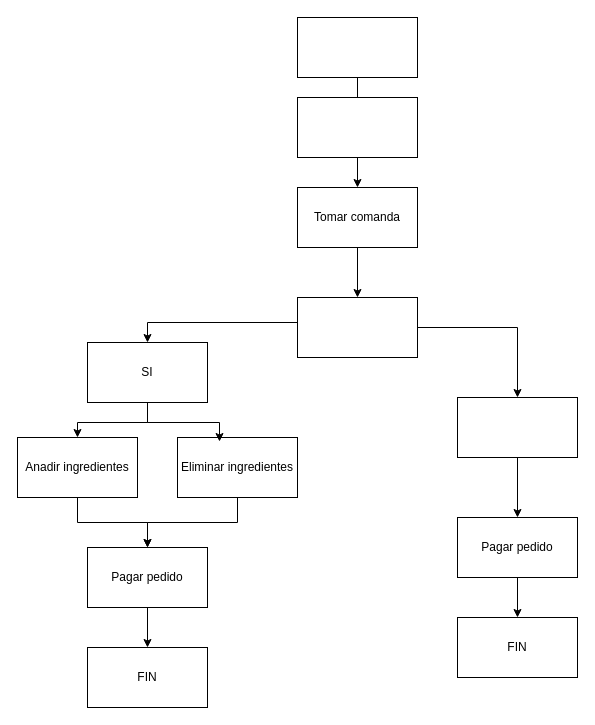
The diagram is 595 pixels wide and 725 high, and some of its shapes have lost their labels. Each missing label, with the box of its shape:
Editar pedido: (296, 296, 418, 358)
INICIO: (296, 16, 418, 78)
Mostrar menu: (296, 96, 418, 158)
NO: (456, 396, 578, 458)
